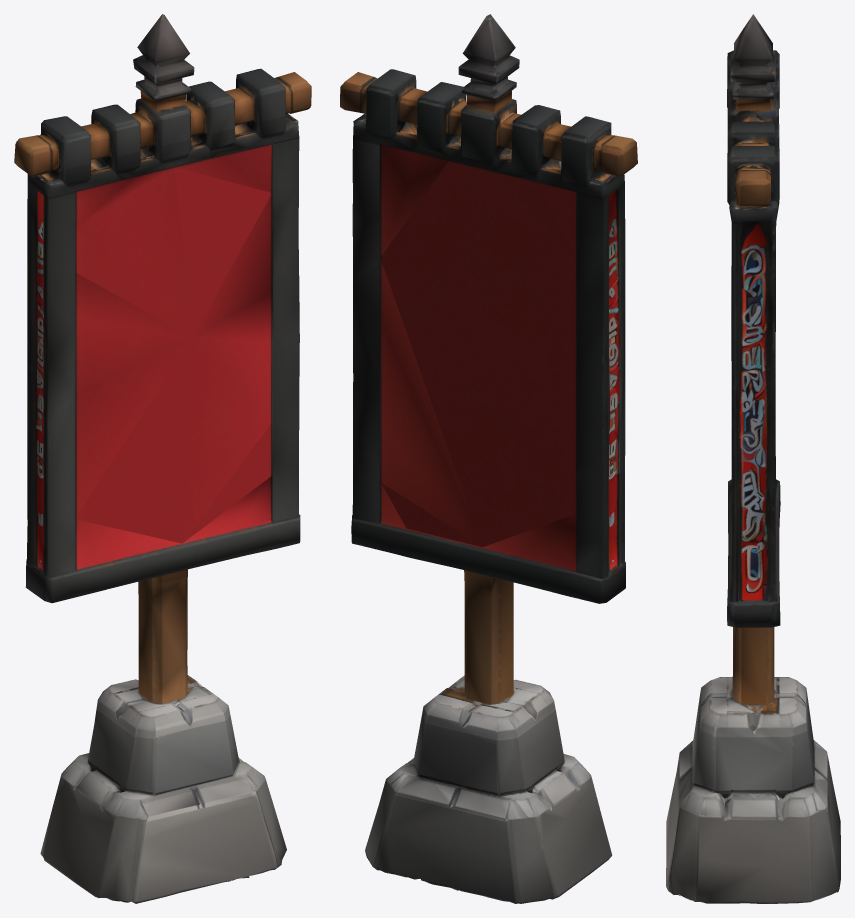
The model's file is banner_pole.glb.
3 renders of one model, left to right at view 1: azimuth 30°, elevation 25°; view 2: azimuth 150°, elevation 25°; view 3: azimuth 270°, elevation 25°, orthographic.
Visible parts, largest first — view 1: low; view 2: low; view 3: low.
Boxes of the visible parts, x1=… form: low: x1=14, y1=14, x2=311, y2=903; low: x1=340, y1=14, x2=637, y2=903; low: x1=666, y1=14, x2=840, y2=903.
Bounding box in the file's own units: 0.3503 × 1 × 0.1882.
1 material, 1 textured.
